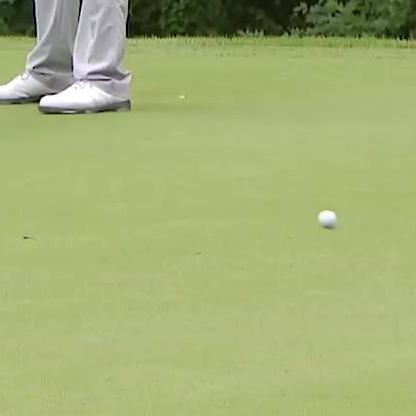golfball: (315, 207, 337, 229)
